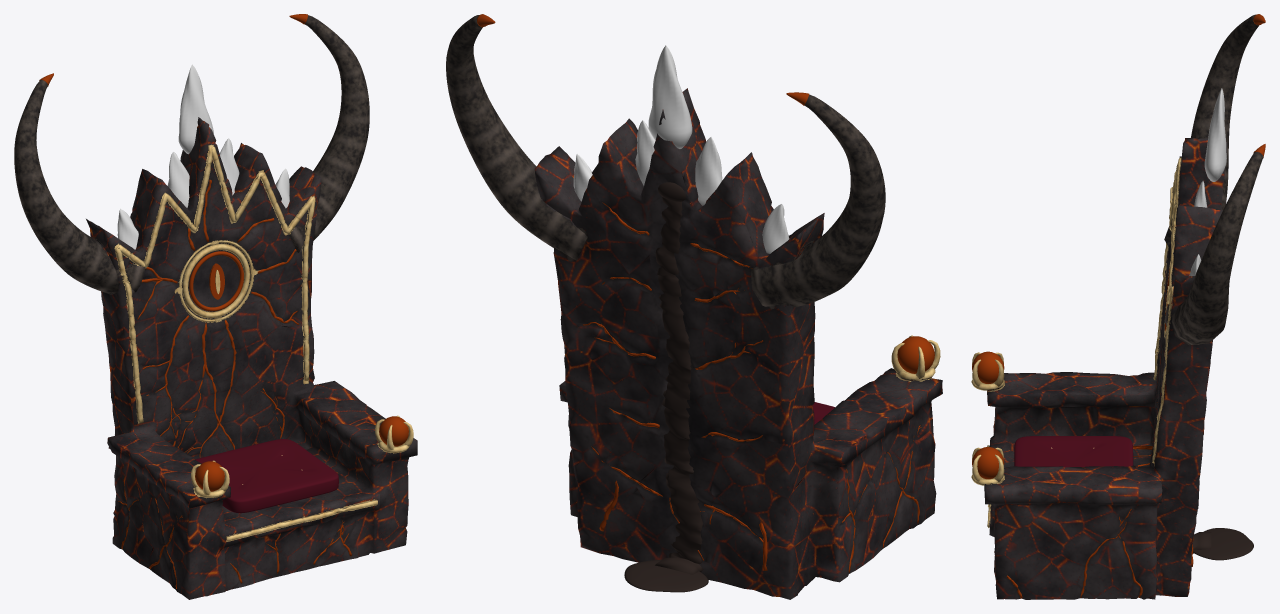
File: LavaThrone.fbx
The picture shows the model from 3 angles, left to right: view 1: azimuth 30°, elevation 25°; view 2: azimuth 150°, elevation 25°; view 3: azimuth 270°, elevation 25°; orthographic projection. The views are drawn at different scales.
Parts seen in each view (by area): view 1: ThroneBody, Seat, LavaVeins_Front, Flame_5, RuneGlow, Flame_3, LavaVeins_Base, ClawOrb_R, ClawOrb_L, Flame_1, Flame_4; view 2: ThroneBody, Lavafall, Flame_5, LavaPool, LavaVeins_Back, Flame_3, ClawOrb_L, Flame_1, Flame_4, LavaVeins_Base; view 3: ThroneBody, Seat, Flame_5, LavaPool, ClawOrb_L, ClawOrb_R, LavaVeins_Base.
Part boxes in pixels (bbox=[...]): ThroneBody: bbox=[14, 15, 417, 599]; Seat: bbox=[195, 439, 338, 513]; LavaVeins_Front: bbox=[130, 179, 299, 457]; Flame_5: bbox=[178, 64, 213, 154]; RuneGlow: bbox=[189, 251, 243, 311]; Flame_3: bbox=[167, 152, 189, 207]; LavaVeins_Base: bbox=[118, 465, 351, 588]; ClawOrb_R: bbox=[379, 416, 408, 446]; ClawOrb_L: bbox=[195, 461, 224, 491]; Flame_1: bbox=[117, 209, 138, 249]; Flame_4: bbox=[219, 138, 239, 195]; ThroneBody: bbox=[446, 15, 942, 599]; Lavafall: bbox=[655, 182, 703, 574]; Flame_5: bbox=[648, 45, 692, 148]; LavaPool: bbox=[624, 559, 708, 592]; LavaVeins_Back: bbox=[576, 202, 763, 542]; Flame_3: bbox=[695, 137, 722, 205]; ClawOrb_L: bbox=[897, 336, 934, 373]; Flame_1: bbox=[762, 204, 789, 253]; Flame_4: bbox=[635, 120, 655, 185]; LavaVeins_Base: bbox=[830, 425, 921, 572]; ThroneBody: bbox=[971, 14, 1263, 599]; Seat: bbox=[1014, 436, 1133, 467]; Flame_5: bbox=[1204, 88, 1226, 181]; LavaPool: bbox=[1193, 528, 1253, 560]; ClawOrb_L: bbox=[972, 351, 1004, 383]; ClawOrb_R: bbox=[972, 447, 1004, 479]; LavaVeins_Base: bbox=[1007, 509, 1142, 598].
Bounding box in the file's own units: 9.5 × 11.57 × 6.54.
Materials: 8 (1 with a texture image).
